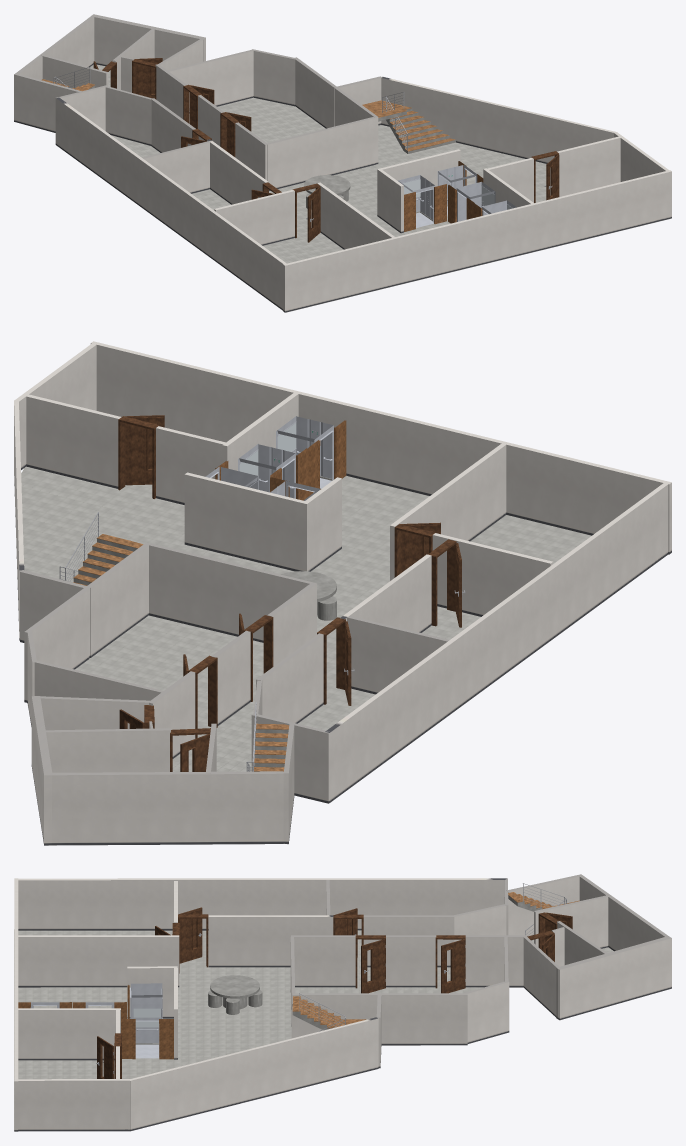
File: TorreAntiguaBanos.glb
3 views of the same model, one above another, from view 1: azimuth 30°, elevation 25°; view 2: azimuth 150°, elevation 25°; view 3: azimuth 270°, elevation 25° (orthographic). The views are drawn at different scales.
Visible parts, largest first — view 1: Paredes.015, Piso, Paredes.017, Paredes.016, Paredes.001, Paredes.033, Paredes.027, Paredes.024, Paredes.022, Paredes.009, Paredes.007, Paredes.013 (+34 smaller); view 2: Piso, Paredes.015, Paredes.025, Paredes.001, Paredes.016, Paredes.033, Paredes.031, Paredes, Paredes.027, Paredes.007, Paredes.035, Paredes.009 (+34 smaller); view 3: Piso, Paredes.017, Paredes.001, Paredes.016, Paredes.007, Paredes.024, Paredes.002, Paredes.030, Paredes.019, Paredes.014, Paredes.018, Paredes.003 (+26 smaller).
Boxes of the visible parts, <box> form: Paredes.015: <box>283,170,671,312</box>; Piso: <box>90,64,670,312</box>; Paredes.017: <box>381,76,616,163</box>; Paredes.016: <box>56,97,287,287</box>; Paredes.001: <box>56,98,285,310</box>; Paredes.033: <box>266,117,375,190</box>; Paredes.027: <box>557,136,621,196</box>; Paredes.024: <box>92,14,205,66</box>; Paredes.022: <box>167,49,253,113</box>; Paredes.009: <box>214,189,294,245</box>; Paredes.007: <box>317,182,394,249</box>; Paredes.013: <box>14,73,81,132</box>; Piso: <box>21,466,591,845</box>; Paredes.015: <box>90,341,671,554</box>; Paredes.025: <box>50,771,283,845</box>; Paredes.001: <box>328,482,669,802</box>; Paredes.016: <box>325,482,668,766</box>; Paredes.033: <box>149,543,312,642</box>; Paredes.031: <box>184,472,304,571</box>; Paredes: <box>96,344,671,541</box>; Paredes.027: <box>23,393,121,488</box>; Paredes.007: <box>390,443,506,580</box>; Paredes.035: <box>43,728,170,772</box>; Paredes.009: <box>432,533,553,616</box>; Piso: <box>14,929,613,1130</box>; Paredes.017: <box>130,1017,378,1131</box>; Paredes.001: <box>16,878,506,905</box>; Paredes.016: <box>16,879,506,930</box>; Paredes.007: <box>16,935,179,987</box>; Paredes.024: <box>556,936,671,1020</box>; Paredes.002: <box>208,915,333,967</box>; Paredes.030: <box>17,1008,120,1060</box>; Paredes.019: <box>381,993,467,1045</box>; Paredes.014: <box>291,935,355,987</box>; Paredes.018: <box>15,1079,130,1131</box>; Paredes.003: <box>15,1079,130,1106</box>.
Bounding box in the file's own units: 39.62 × 6.27 × 53.26.
Materials: 10 (8 with a texture image).
